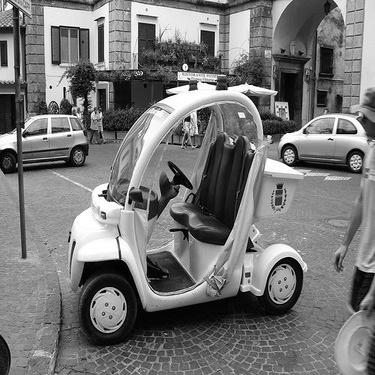car: (53, 74, 310, 343), (279, 106, 374, 176), (3, 112, 90, 168)
